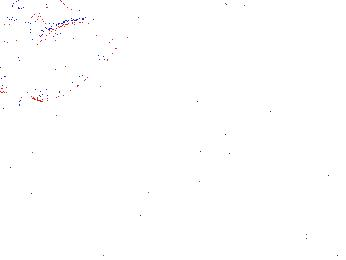moon jellyfish: (125, 1, 231, 94), (22, 19, 117, 103), (1, 15, 52, 96)
